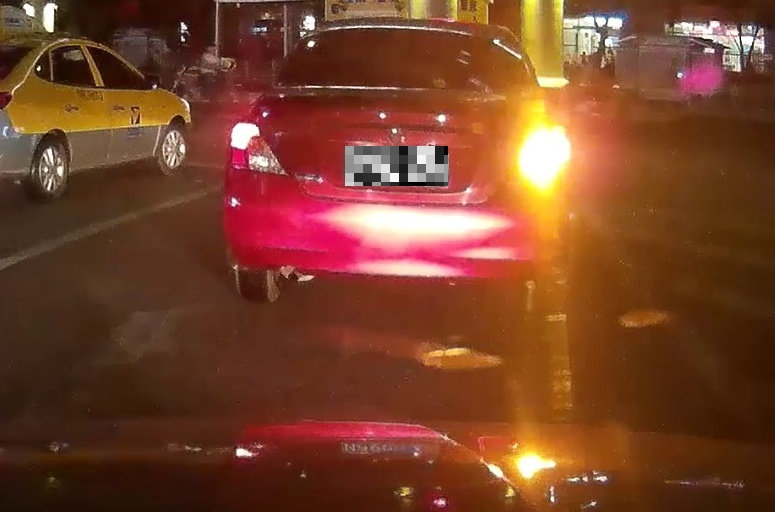L_light: (229, 122, 288, 176)
R_light: (504, 131, 564, 188)
T_light: (390, 26, 425, 38)
night-right: (221, 17, 566, 320)
plate_1: (345, 146, 448, 186)
